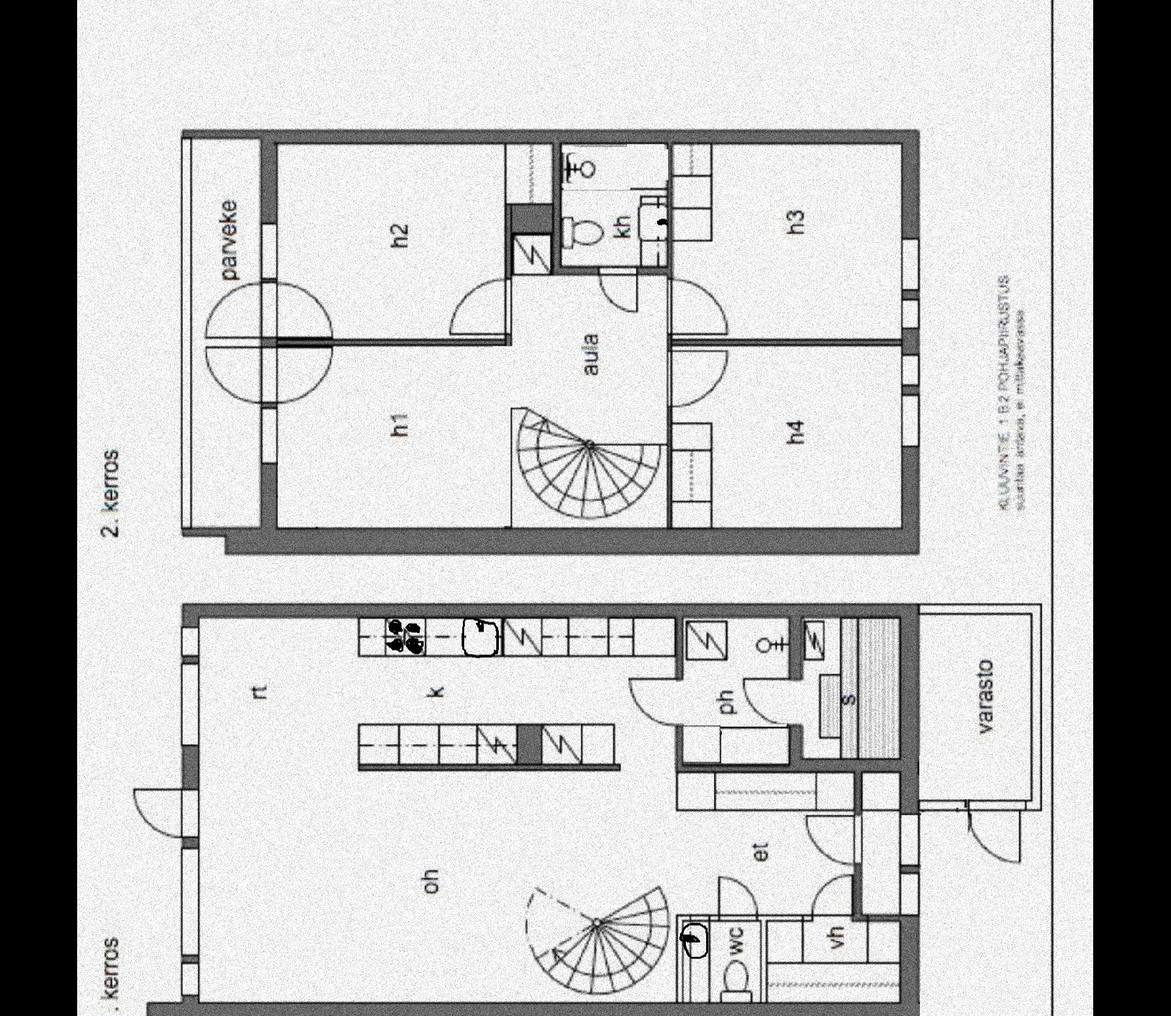door: (204, 272, 337, 340), (204, 344, 333, 410), (125, 780, 206, 845), (972, 791, 1035, 865), (449, 275, 514, 339), (665, 347, 725, 406), (808, 812, 866, 865), (619, 674, 676, 726), (737, 671, 795, 722), (672, 282, 725, 333), (716, 875, 760, 927), (603, 260, 636, 322), (817, 875, 859, 923)
window: (181, 664, 200, 747), (256, 222, 280, 276), (185, 853, 197, 951), (903, 875, 928, 917), (261, 411, 280, 463), (906, 241, 925, 291), (901, 812, 918, 865), (264, 352, 278, 406), (264, 284, 278, 335), (180, 965, 199, 995), (183, 627, 200, 657), (906, 399, 916, 446), (906, 298, 920, 330), (904, 361, 918, 387)
zone: (197, 616, 855, 1005), (278, 276, 667, 526), (670, 142, 904, 339), (669, 351, 903, 531), (278, 146, 500, 333), (190, 139, 258, 527), (918, 619, 1031, 801), (680, 621, 794, 764), (553, 140, 665, 262), (799, 621, 901, 754), (761, 922, 897, 1003), (683, 923, 757, 1001), (865, 774, 899, 915)
